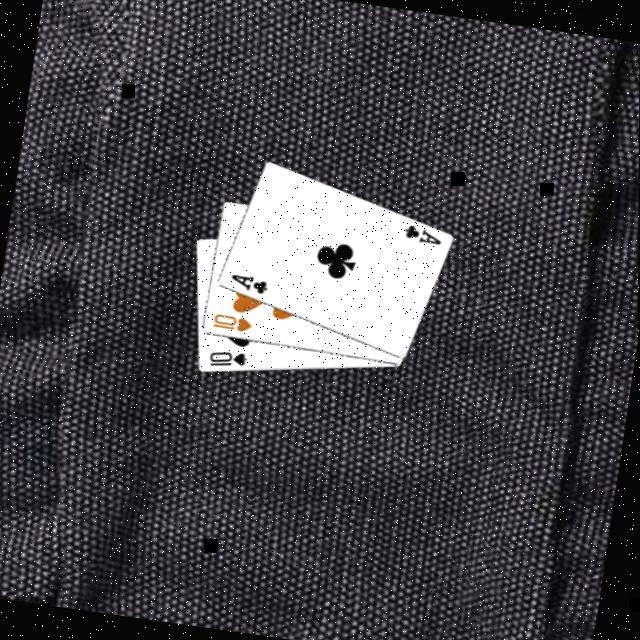10H: (208, 308, 253, 334)
10S: (203, 344, 250, 372)
AC: (224, 268, 270, 296), (398, 219, 443, 247)
